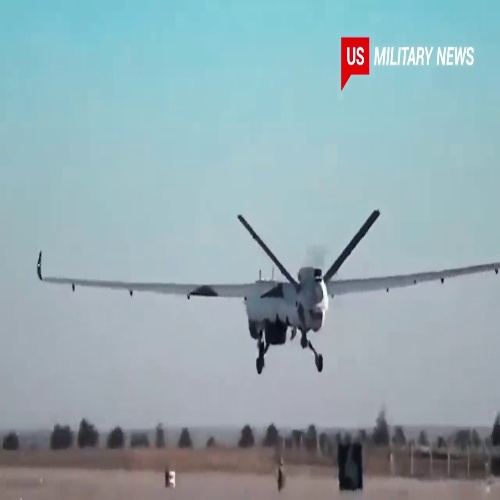uav: (38, 210, 500, 376)
